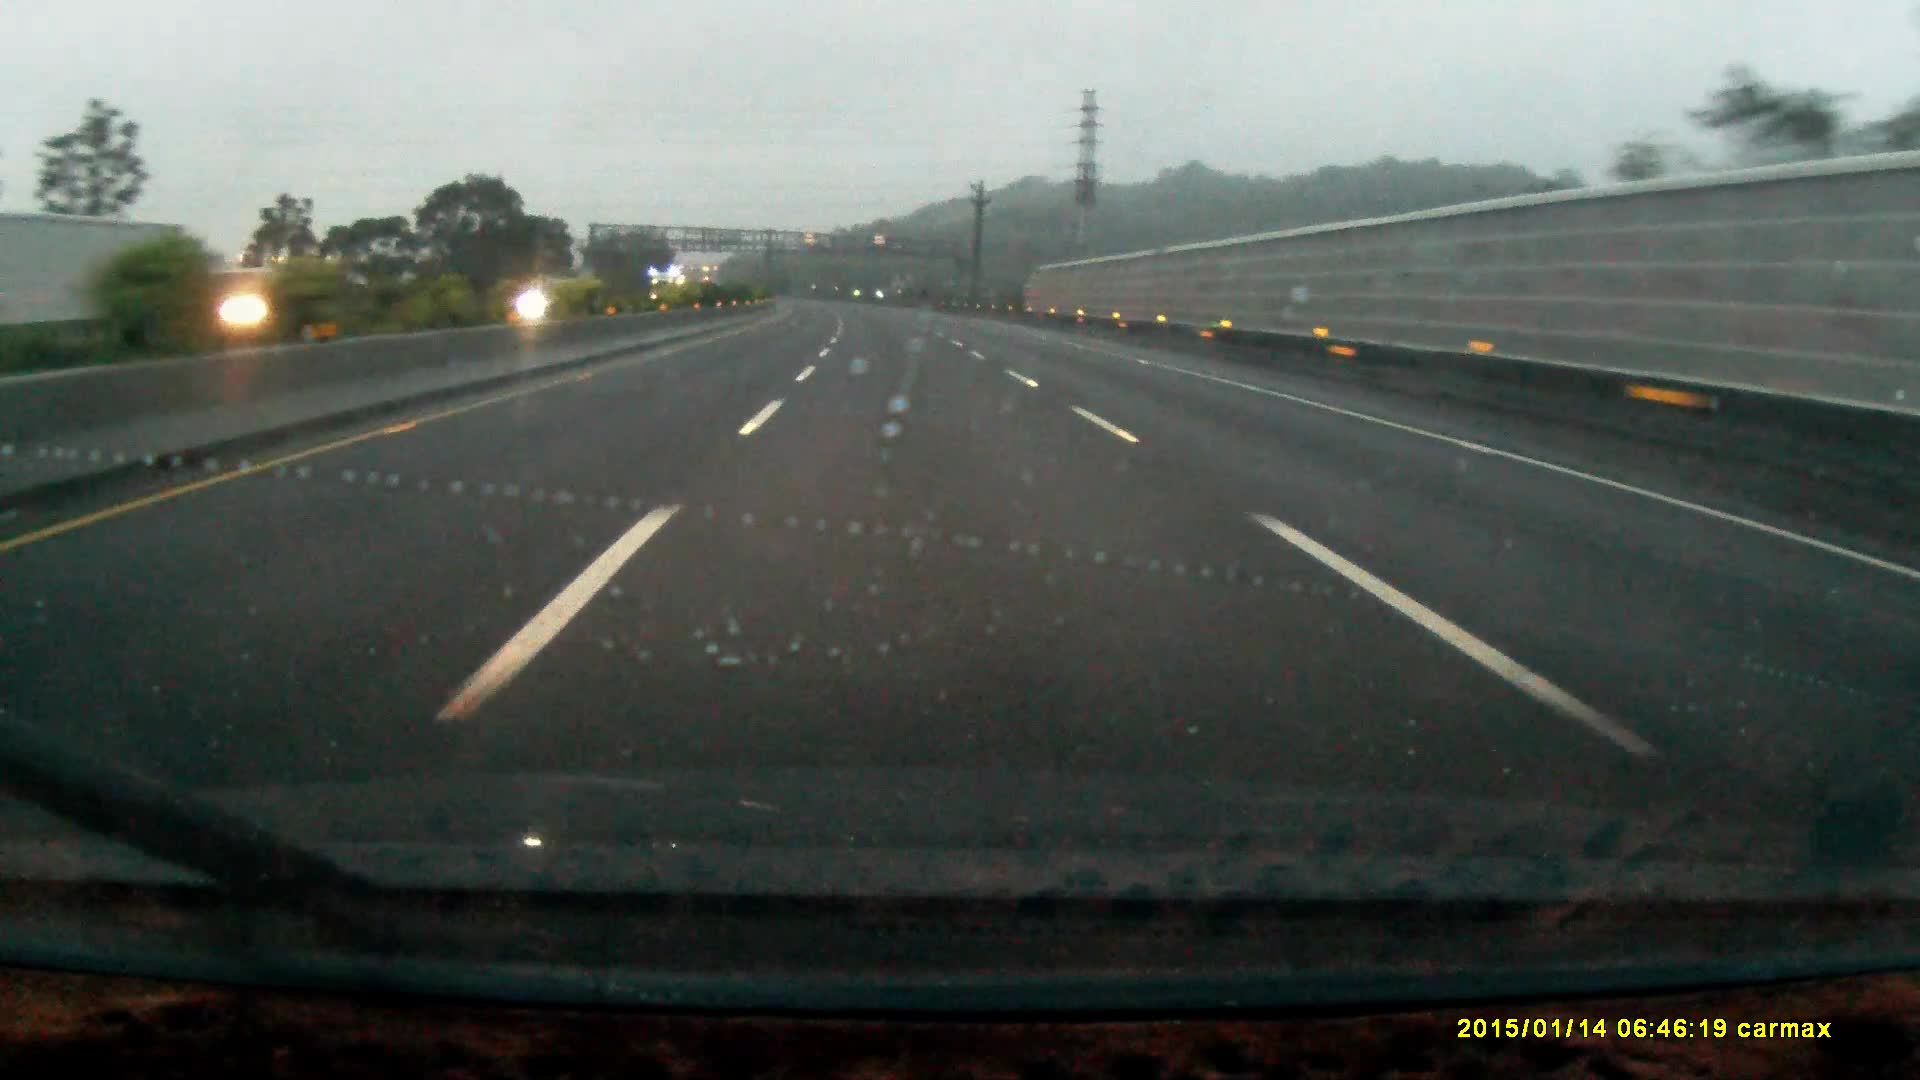vehicle: (650, 265, 690, 305)
